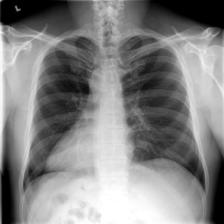normal: (18, 29, 210, 199)
